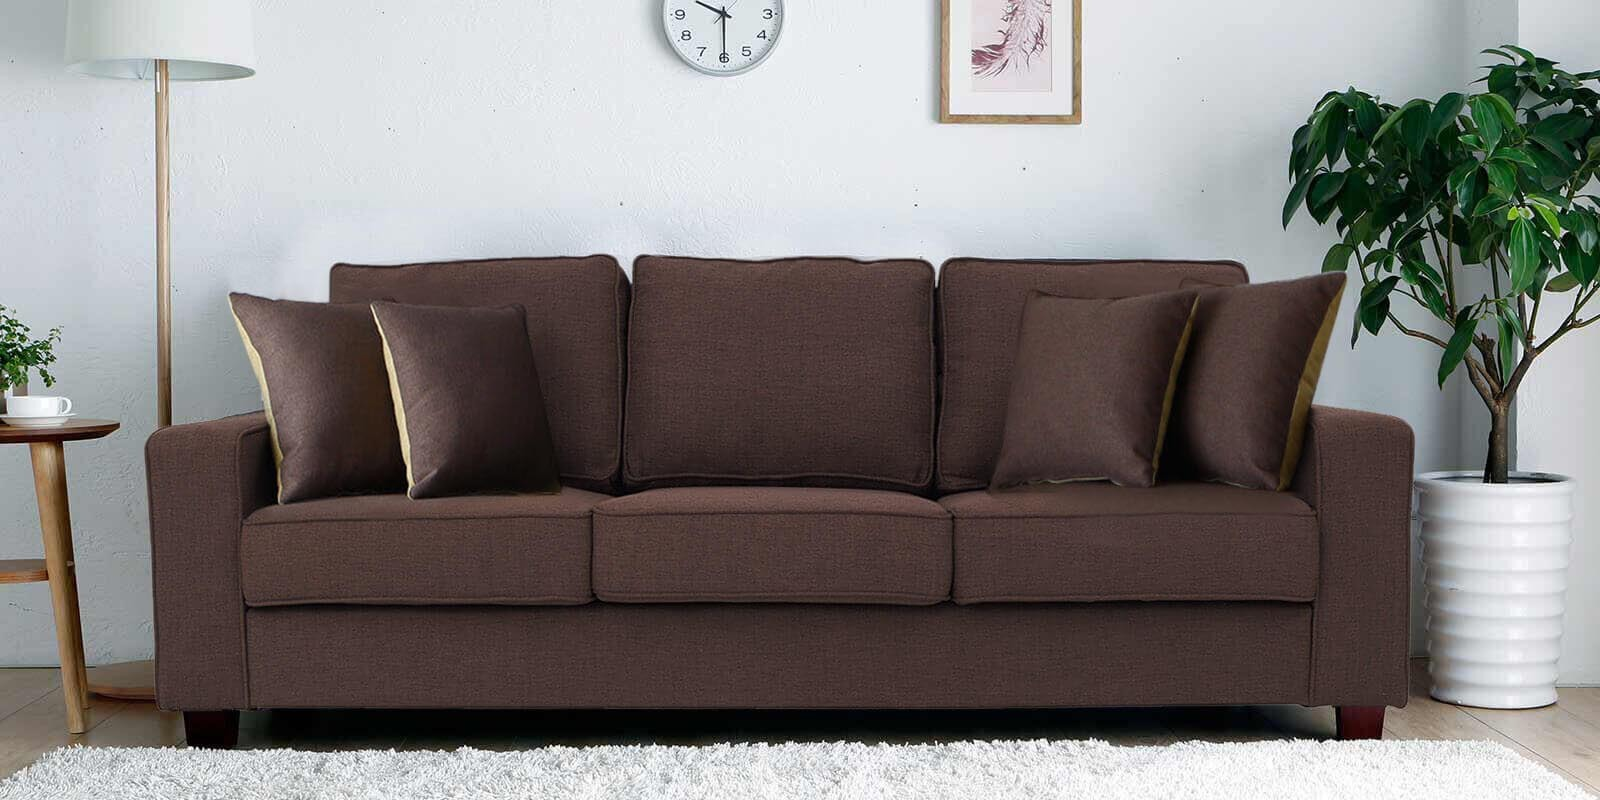Castilla Three Seater Sofa in Brown Colour by CasaCraft: (133, 231, 1429, 753)
